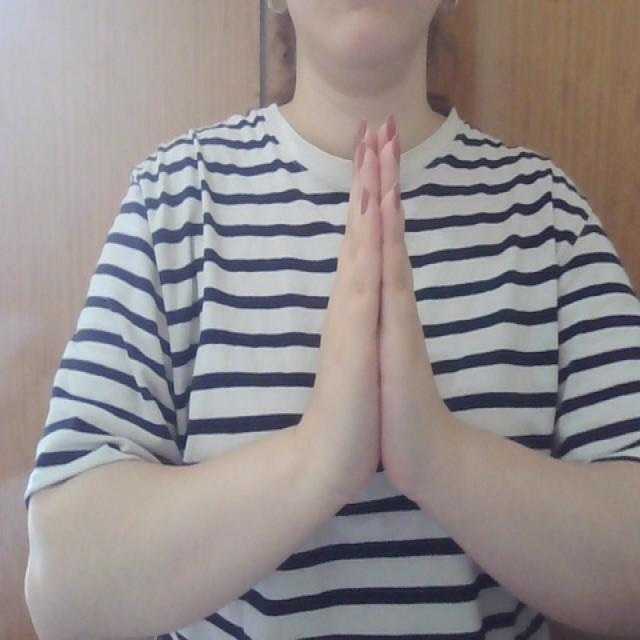Ozur-Dilemek: (292, 109, 445, 544)
